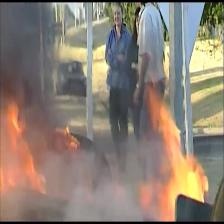fire: (0, 85, 224, 212)
smoke: (0, 6, 71, 99)
